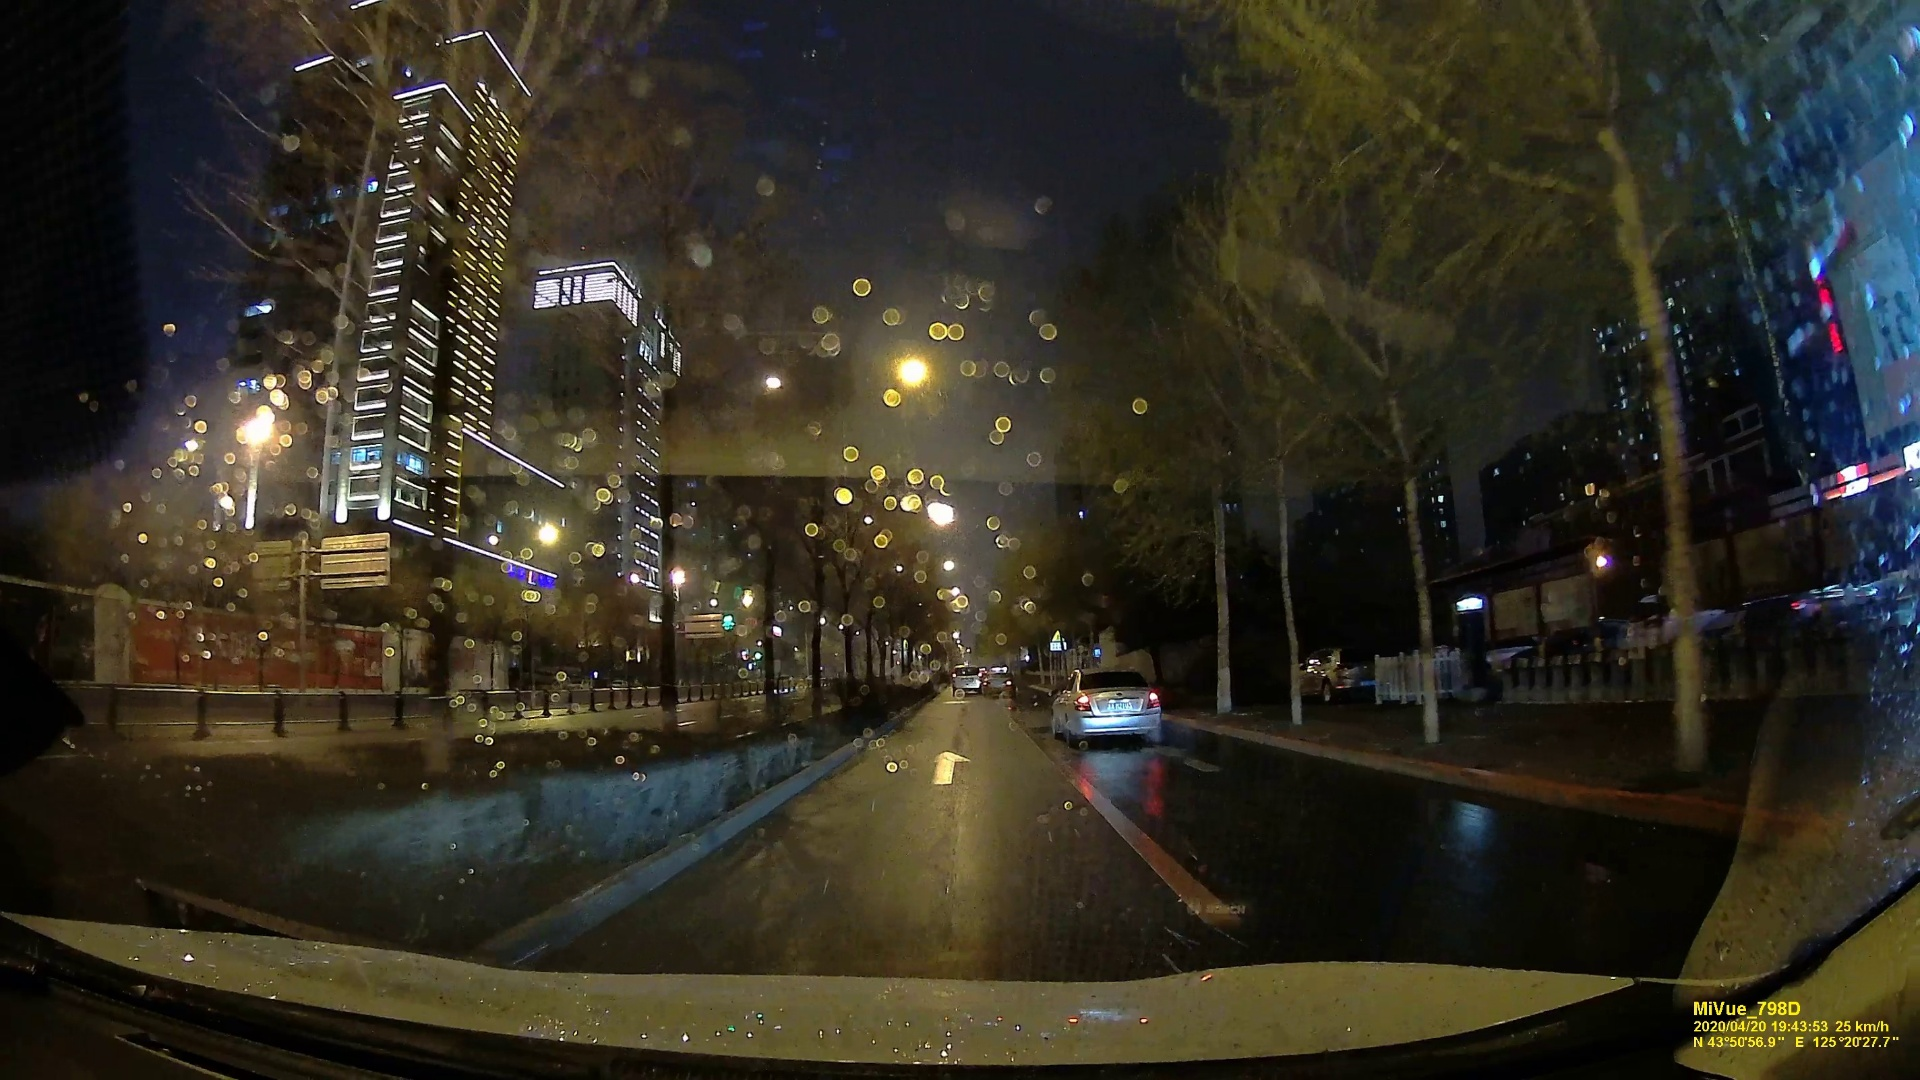vehicle: (1043, 669, 1156, 744), (951, 663, 982, 695), (982, 666, 1014, 698)
